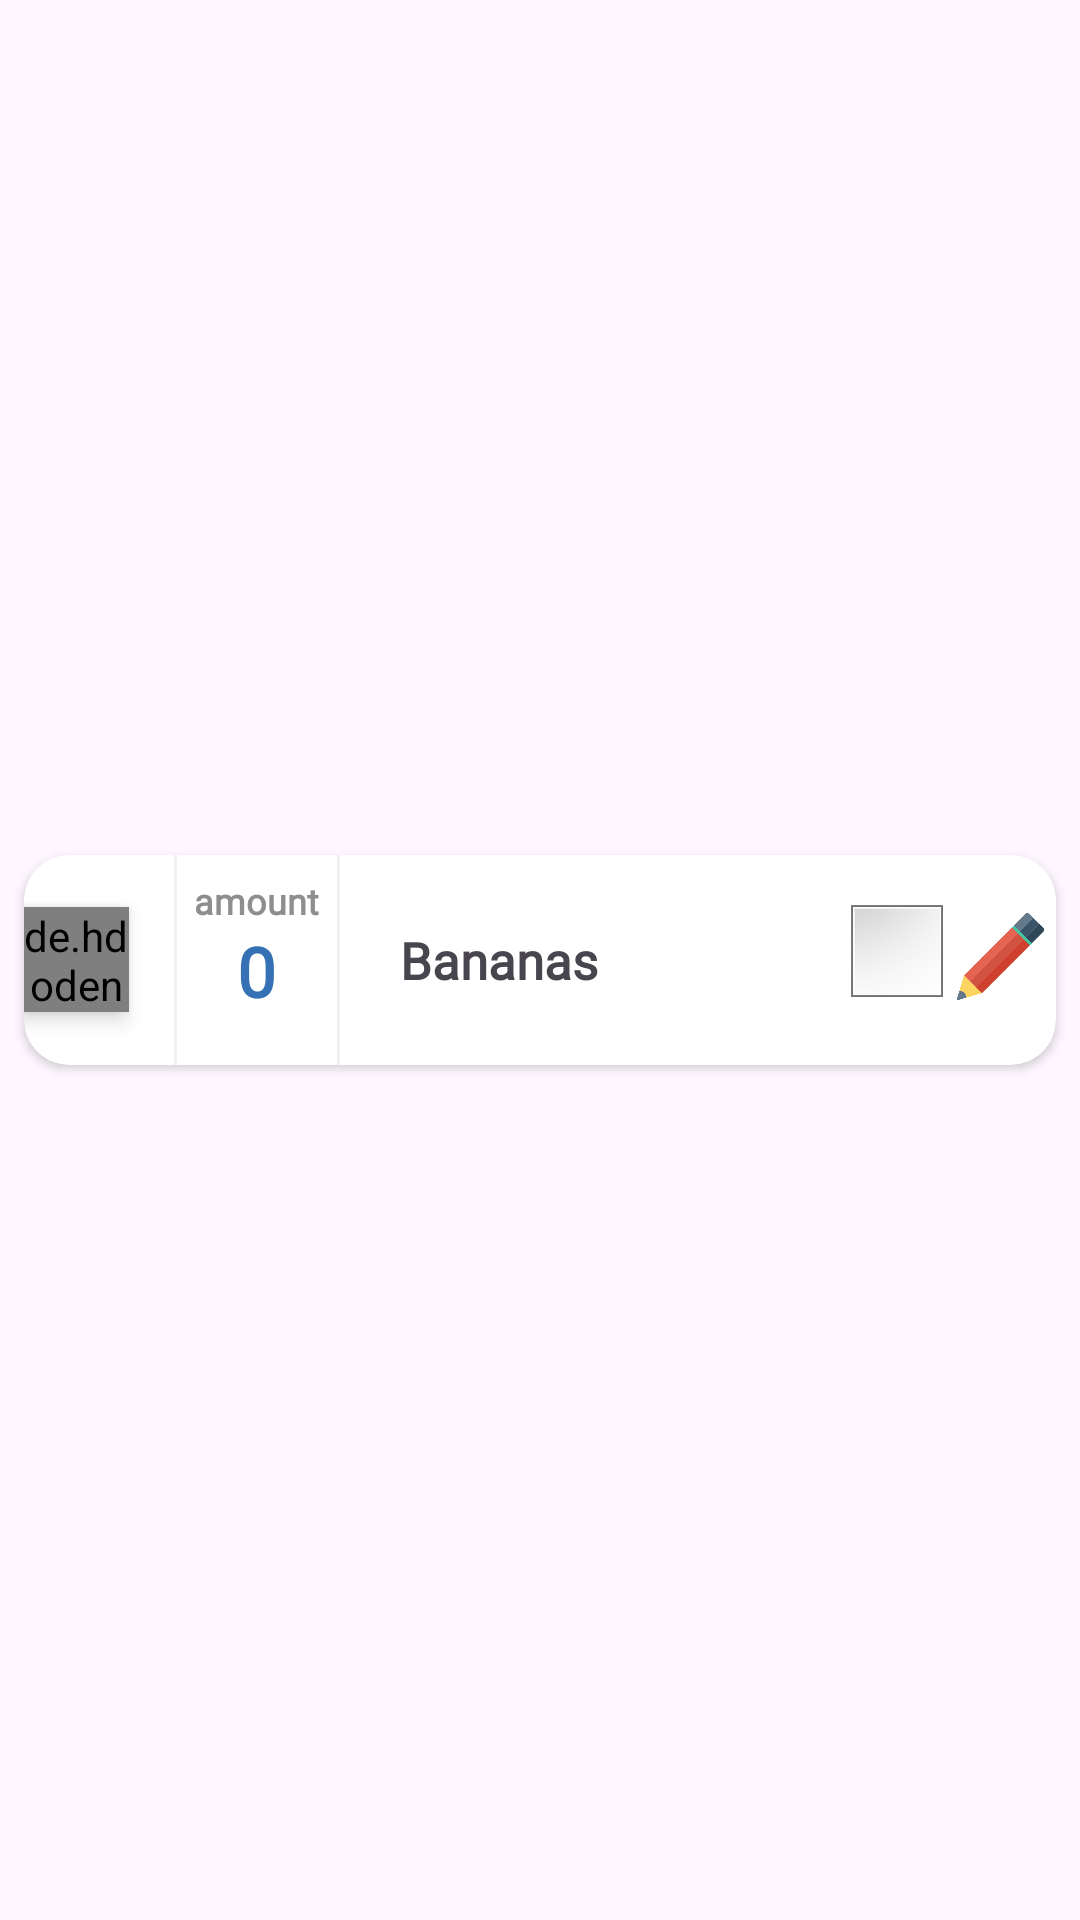

Where to tap for icons on this 1080px x 1920px app screen, as (x,y):
pencil: (1000,956)
